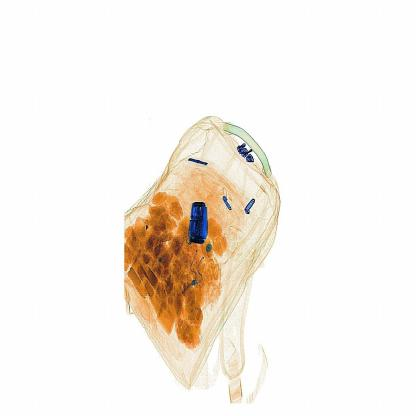scissors: (187, 196, 211, 253)
